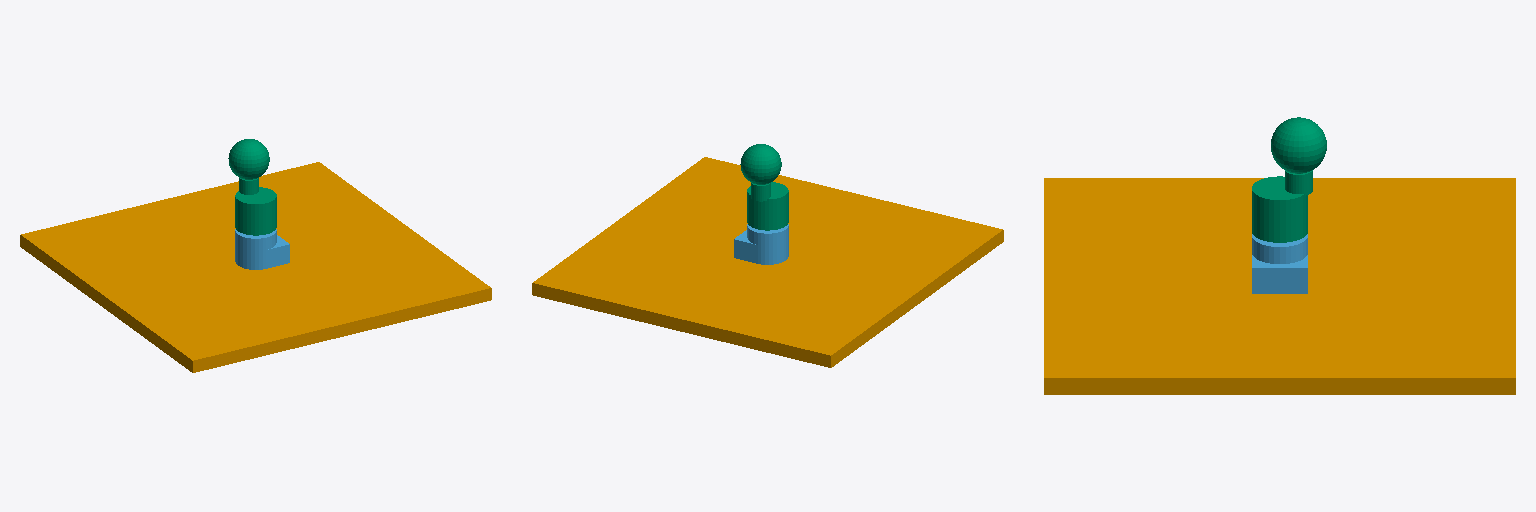
robot.urdf — lwr:
<?xml version="1.0" ?>
<robot name="lwr">
  <link name="base">
    <visual>
      <origin rpy="0 0 0" xyz="0 0 0"/>
      <geometry>
        <box size="1 1 0.04"/>
      </geometry>
    </visual>
  </link>

  <link name="lwr_arm_0_link">
    <inertial>
      <mass value="2.0"/>
      <origin xyz="0 0 0"/>
      <inertia ixx="0.00381666666667" ixy="0" ixz="0" iyy="0.0036" iyz="0" izz="0.00381666666667"/>
    </inertial>

    <visual>
      <origin rpy="0 0 0" xyz="-0.04 0 0.03"/>
      <geometry>
        <box size="0.08 0.12 0.06"/>
      </geometry>
    </visual>
    <visual>
      <origin rpy="0 0 0" xyz="0 0 0.05"/>
      <geometry>
        <cylinder length="0.1" radius="0.06"/>
      </geometry>
    </visual>
  </link>

  <link name="lwr_arm_1_link">
    <inertial>
      <mass value="2.0"/>
      <!-- <origin rpy="0 0 0" xyz="0 -0.06 0.130"/> -->
      <inertia ixx="0.0136666666667" ixy="0" ixz="0" iyy="0.003" iyz="0" izz="0.0118666666667"/>
    </inertial>

    <visual>
      <origin rpy="0 0 0" xyz="0 0 0.05"/>
      <geometry>
        <cylinder length="0.1" radius="0.06"/>
      </geometry>
    </visual>
    <visual>
      <origin rpy="0 0 0" xyz="0 -0.04 0.12"/>
      <geometry>
        <cylinder length="0.05" radius="0.03"/>
      </geometry>
    </visual>
    <visual>
      <origin rpy="0 0 0" xyz="0 -0.04 0.2"/>
      <geometry>
        <sphere radius="0.06"/>
      </geometry>
    </visual>
  </link>


  <joint name="base_joint" type="fixed">
    <origin rpy="0 0 3.14159265359" xyz="0 0 0.02"/>
    <parent link="base"/>
    <child link="lwr_arm_0_link"/>
  </joint>
  <joint name="lwr_arm_0_joint" type="fixed">
    <origin rpy="0 0 0" xyz="0 0 0.11"/>
    <parent link="lwr_arm_0_link"/>
    <child link="lwr_arm_1_link"/>
  </joint>

</robot>

--- Render facts (derived) ---
3 views of the same robot in one strip: view 1: azimuth 30°, elevation 25°; view 2: azimuth 150°, elevation 25°; view 3: azimuth 270°, elevation 25° (orthographic).
Model lwr with 3 links and 2 joints (2 fixed), rooted at base, posed all joints at 0.
Links seen in each view (by area): view 1: base, lwr_arm_1_link, lwr_arm_0_link; view 2: base, lwr_arm_1_link, lwr_arm_0_link; view 3: base, lwr_arm_1_link, lwr_arm_0_link.
Boxes of the visible links, left/top/right/bottom form: base: left=20, top=162, right=491, bottom=372; lwr_arm_1_link: left=228, top=139, right=276, bottom=235; lwr_arm_0_link: left=235, top=229, right=289, bottom=269; base: left=532, top=157, right=1003, bottom=367; lwr_arm_1_link: left=740, top=144, right=788, bottom=230; lwr_arm_0_link: left=734, top=224, right=788, bottom=264; base: left=1044, top=178, right=1515, bottom=394; lwr_arm_1_link: left=1252, top=117, right=1326, bottom=242; lwr_arm_0_link: left=1252, top=234, right=1307, bottom=293.
Bounding box of the posed robot: 1 × 1 × 0.41 m (x, y, z).
Geometry: primitives only (box / cylinder / sphere), no mesh files.